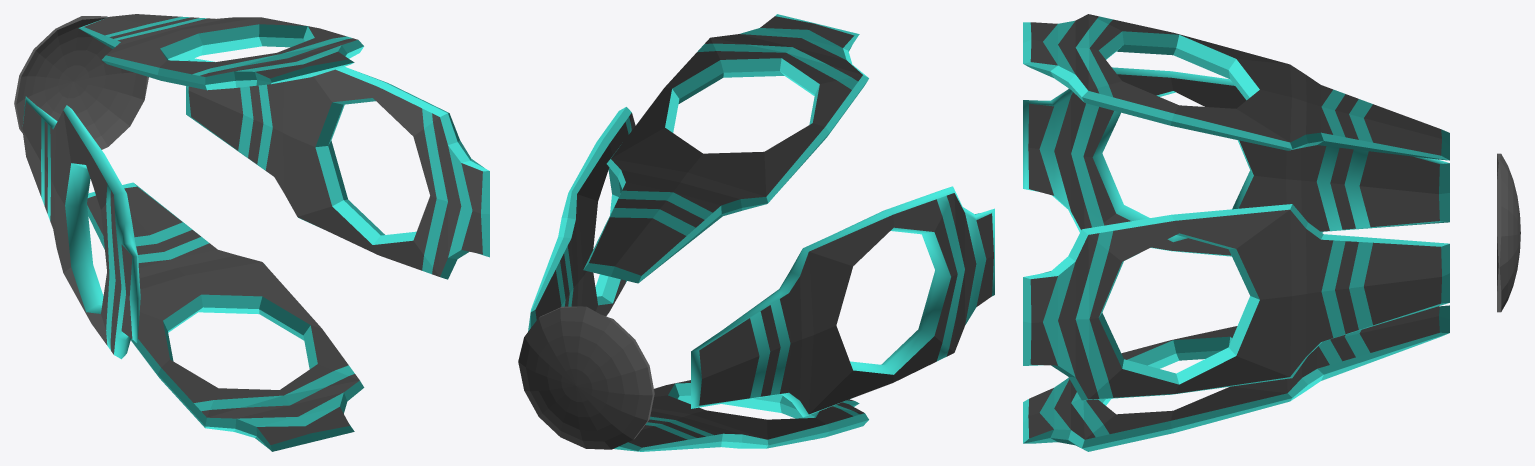
File: Gate2.fbx
3 renders of one model, left to right at view 1: azimuth 30°, elevation 25°; view 2: azimuth 150°, elevation 25°; view 3: azimuth 270°, elevation 25°, orthographic. The views are drawn at different scales.
Visible parts, largest first — view 1: Dark.001, Lit.001; view 2: Dark.001, Lit.001; view 3: Dark.001, Lit.001.
Boxes of the visible parts, x1,y1,x2,y2 form: Dark.001: (14, 14, 482, 444); Lit.001: (22, 16, 489, 451); Dark.001: (518, 16, 993, 449); Lit.001: (528, 14, 994, 451); Dark.001: (1028, 14, 1520, 439); Lit.001: (1023, 16, 1449, 451).
Size of the model in its own units: 4.47 by 4.47 by 5.21.
